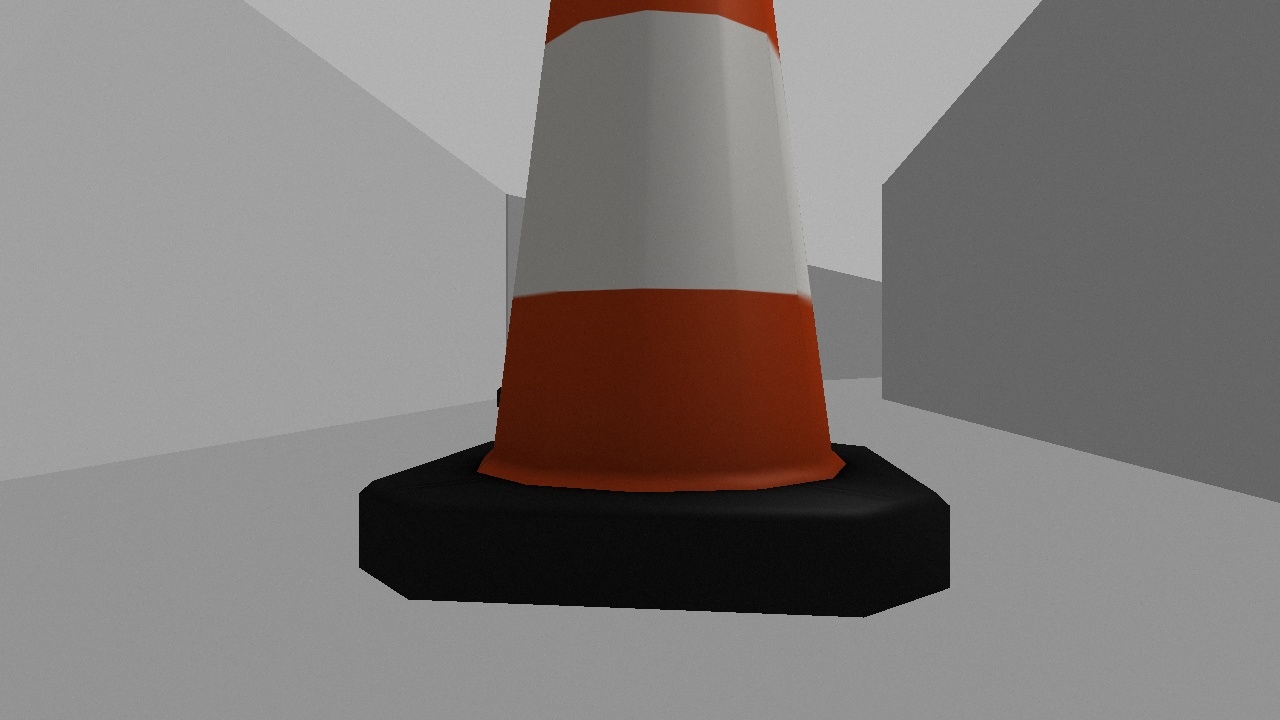barricade: (357, 1, 953, 617)
